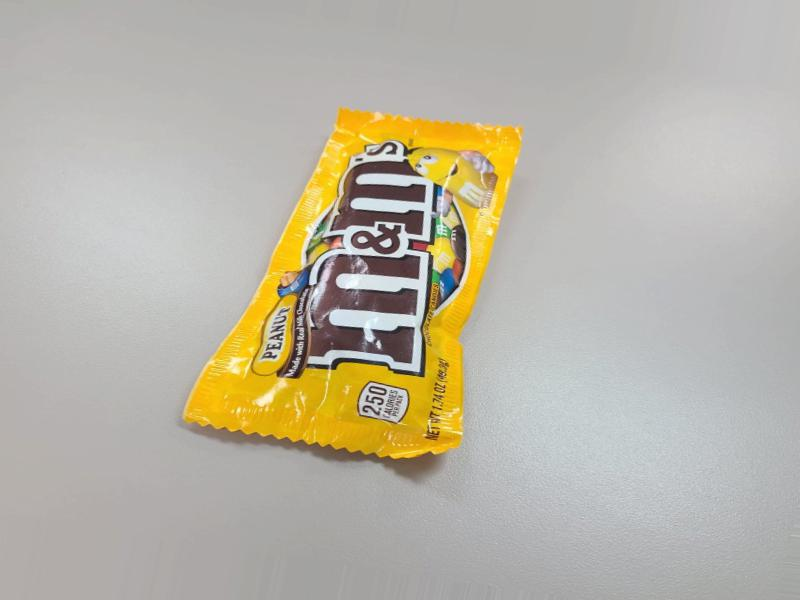m&m: (194, 104, 509, 464)
